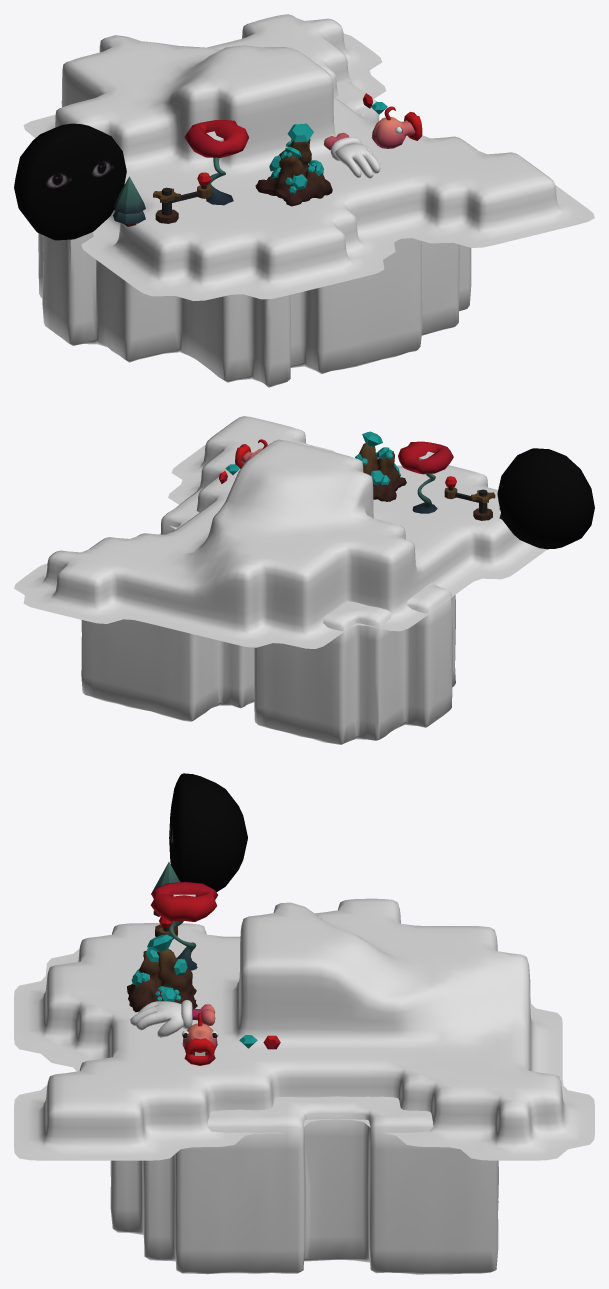
File: terrain test project2.fbx
3 views of the same model, one above another, from view 1: azimuth 30°, elevation 25°; view 2: azimuth 150°, elevation 25°; view 3: azimuth 270°, elevation 25° (orthographic). The views are drawn at different scales.
Visible parts, largest first — view 1: Terrain, Terrain2, EnemyFace, Mine, FlowerMouth, Worker, Crank, Tree, Hand, FlowerStem; view 2: Terrain, Terrain2, EnemyFace, FlowerMouth, Mine, Crank; view 3: Terrain, Terrain2, EnemyFace, Mine, FlowerMouth, Hand, Worker, HandSleeve.
Part boxes in pixels (x1,y1,x2,y2): Terrain: (16,14,594,300); Terrain2: (38,80,471,387); EnemyFace: (14,123,126,240); Mine: (255,139,332,206); FlowerMouth: (184,120,248,157); Worker: (371,106,422,148); Crank: (153,172,211,223); Tree: (113,176,145,226); Hand: (335,143,380,178); FlowerStem: (206,157,233,205); Terrain: (14,416,547,648); Terrain2: (81,488,455,744); EnemyFace: (497,448,594,549); FlowerMouth: (398,441,453,473); Mine: (359,443,406,501); Crank: (444,476,495,520); Terrain: (14,898,594,1160); Terrain2: (110,1096,498,1274); EnemyFace: (169,773,247,892); Mine: (127,949,197,1012); FlowerMouth: (150,881,217,921); Hand: (130,1001,183,1037); Worker: (182,1013,218,1065); HandSleeve: (181,1000,215,1029).
Size of the model in its own units: 1902 by 1006 by 1800.
